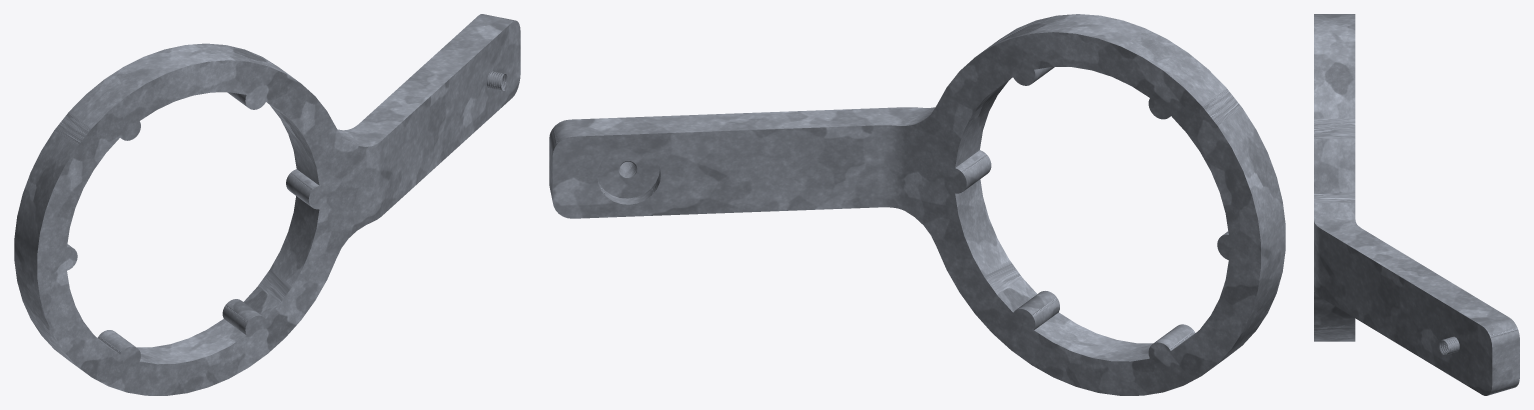
File: Practice30_1.glb
3 views of the same model, side by side, from view 1: azimuth 30°, elevation 25°; view 2: azimuth 150°, elevation 25°; view 3: azimuth 270°, elevation 25° (orthographic). The views are drawn at different scales.
Parts seen in each view (by area): view 1: Default - Part; view 2: Default - Part; view 3: Default - Part.
Part boxes in pixels (bbox=[...]): Default - Part: bbox=[14, 14, 520, 395]; Default - Part: bbox=[549, 14, 1285, 395]; Default - Part: bbox=[1314, 14, 1519, 395].
Size of the model in its own units: 0.1767 by 0.0949 by 0.0597.
Materials: 1 (1 with a texture image).
